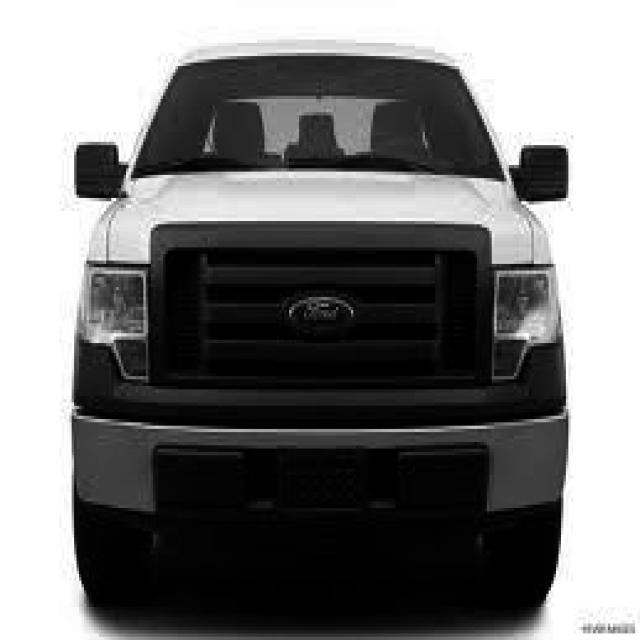car: (69, 37, 571, 610)
